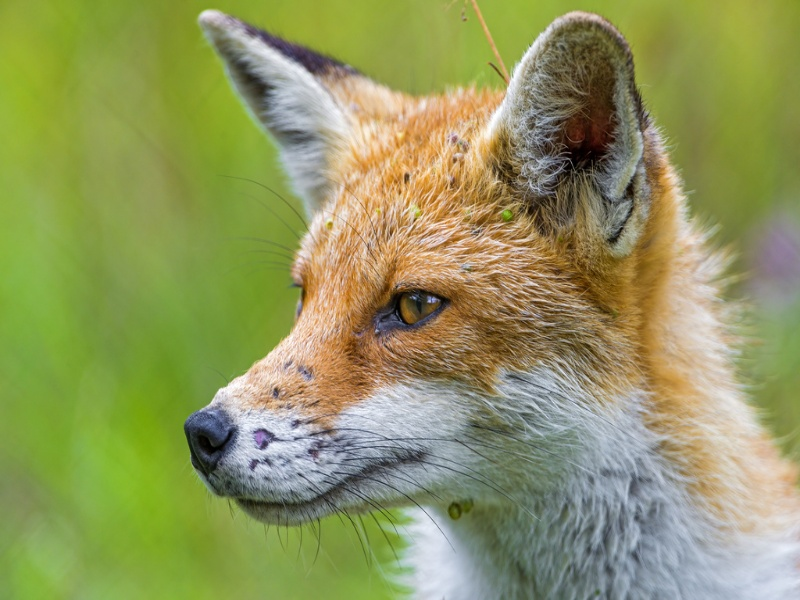fox: (168, 2, 800, 598)
